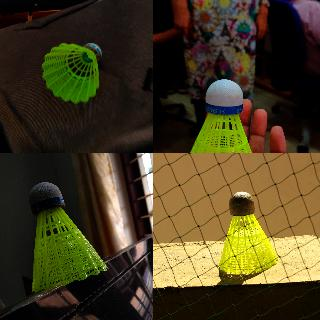shuttlecock: (29, 182, 107, 292), (179, 78, 264, 152), (219, 191, 277, 273), (41, 42, 101, 104)
